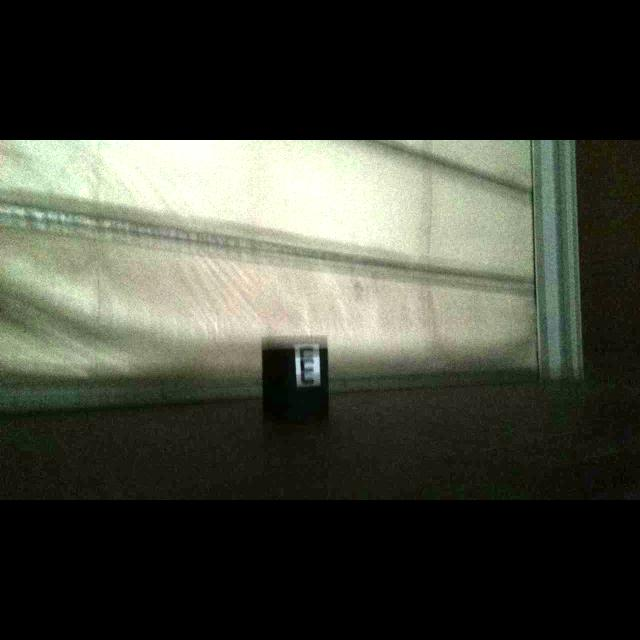E: (301, 356, 315, 383)
